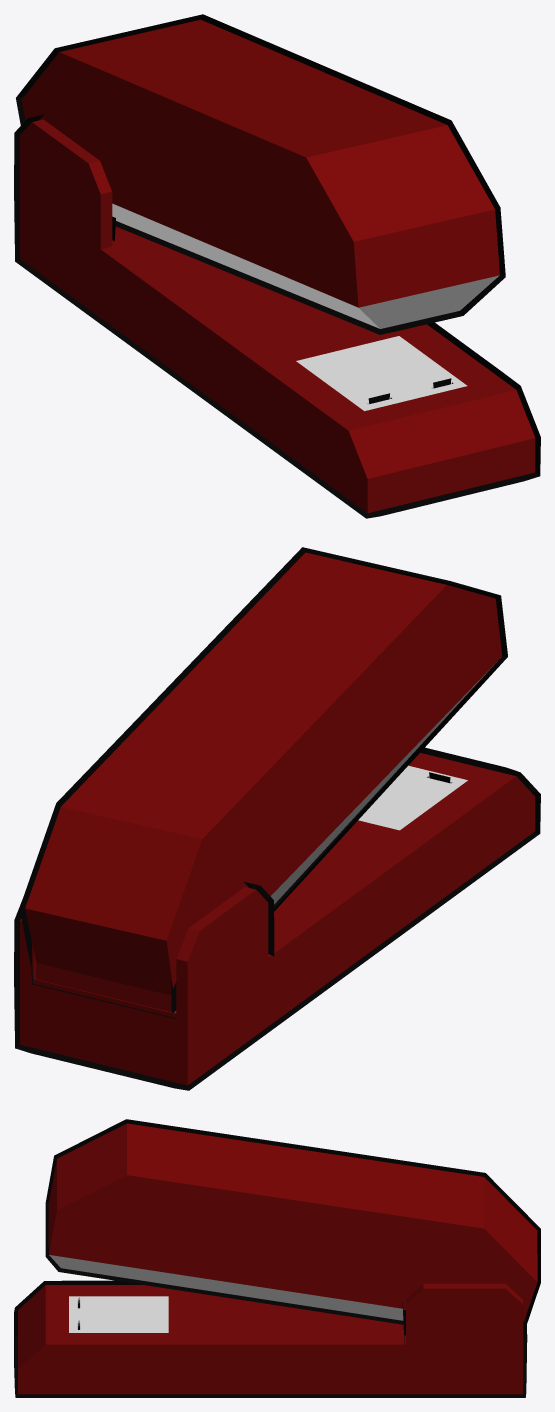
File: gramp.fbx
The picture shows the model from 3 angles, top to bottom: view 1: azimuth 30°, elevation 25°; view 2: azimuth 150°, elevation 25°; view 3: azimuth 270°, elevation 25°; orthographic projection. The views are drawn at different scales.
Parts seen in each view (by area): view 1: pCube3, pCube4; view 2: pCube3, pCube4; view 3: pCube3, pCube4.
Boxes of the visible parts, <box> form: pCube3: <box>20,19,535,513</box>; pCube4: <box>14,14,540,518</box>; pCube3: <box>20,552,535,1085</box>; pCube4: <box>14,547,540,1090</box>; pCube3: <box>18,1123,537,1394</box>; pCube4: <box>14,1119,540,1397</box>.
Size of the model in its own units: 1.17 by 1.93 by 4.14.
